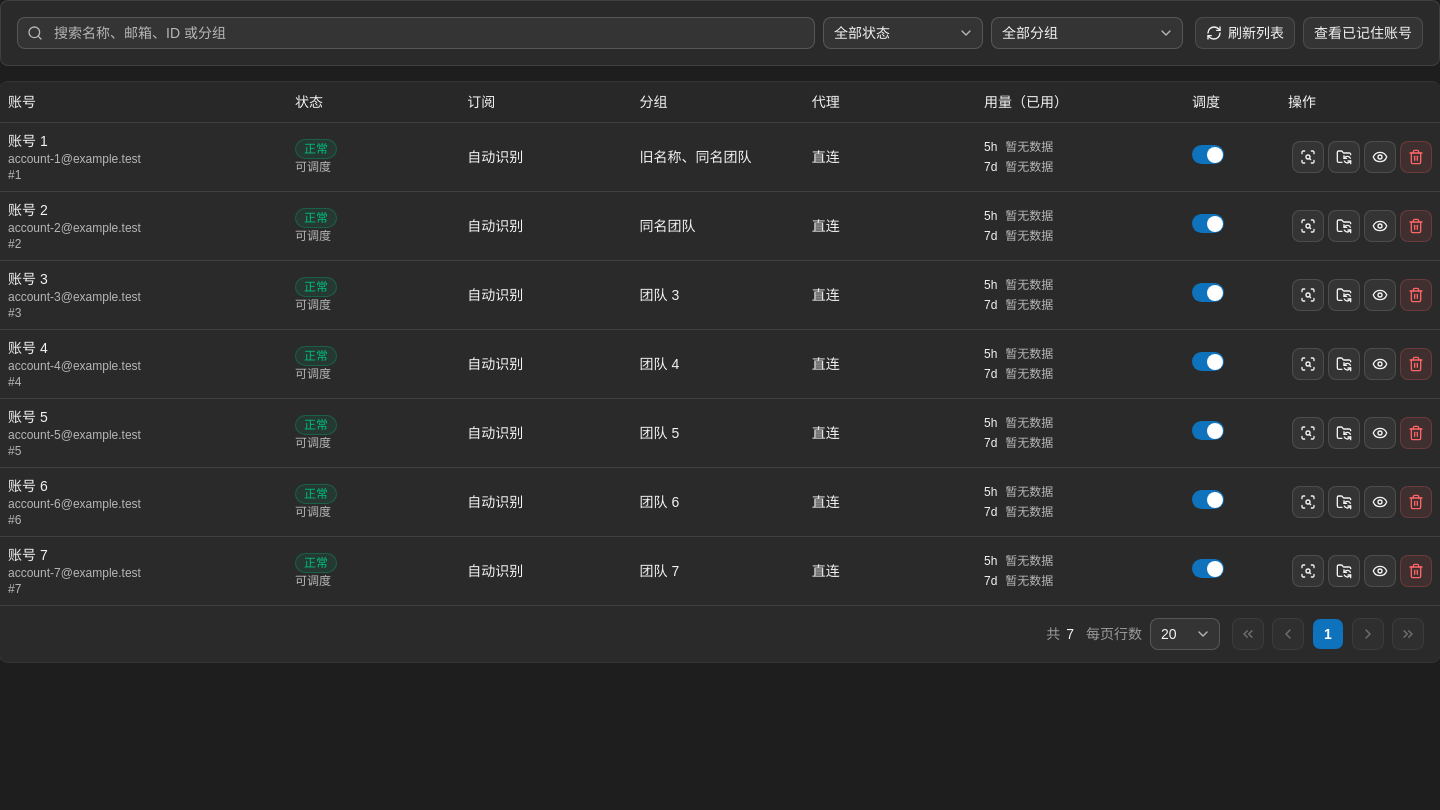
同名分组通过搜索ID精确选择，重复组保持首次顺序并采用最后名称
Click the dropdown named "筛选账号分组" at [1087, 33], box [991,17,1183,49]
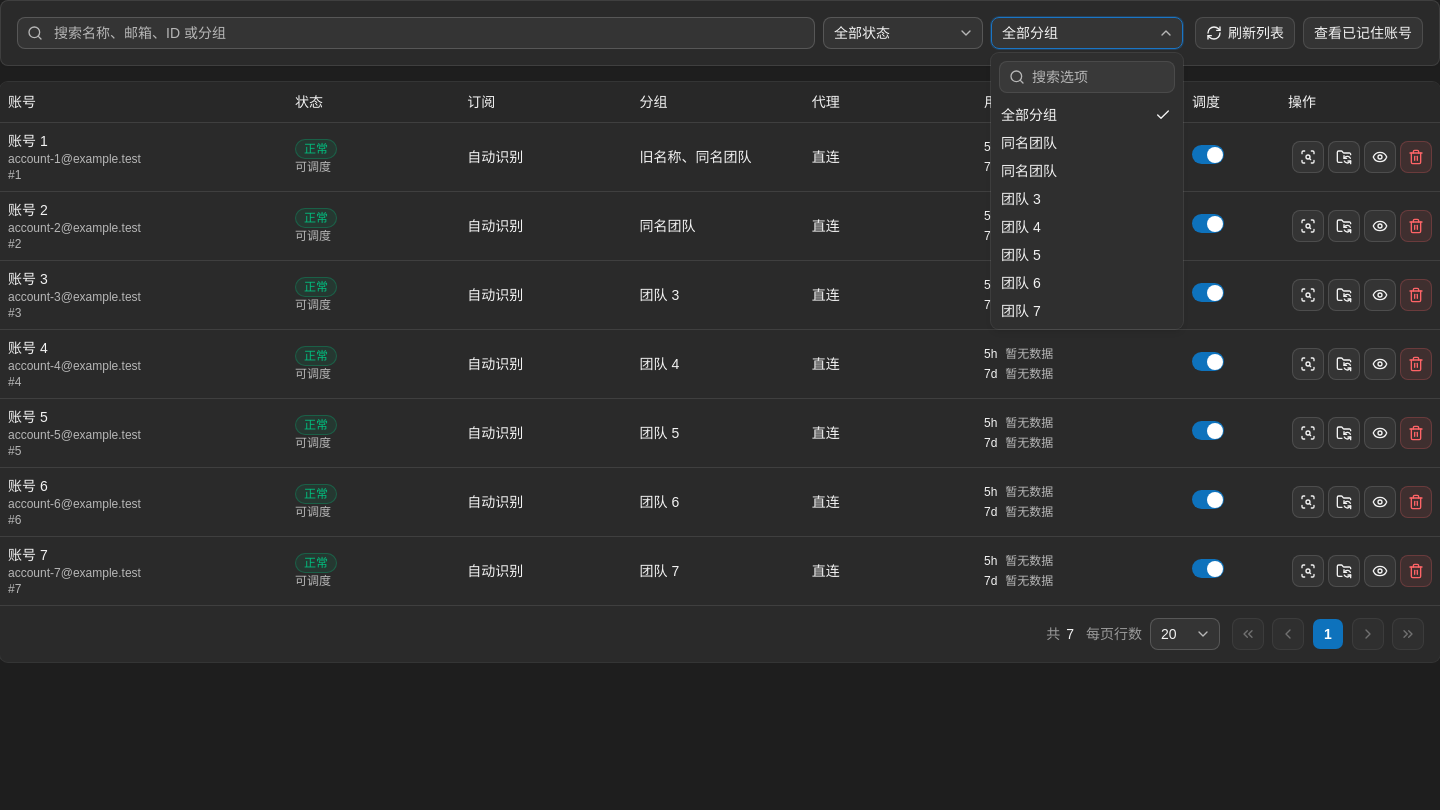
Type "1" into the field labelled "搜索选项" at [1087, 77], box [999,61,1175,93]
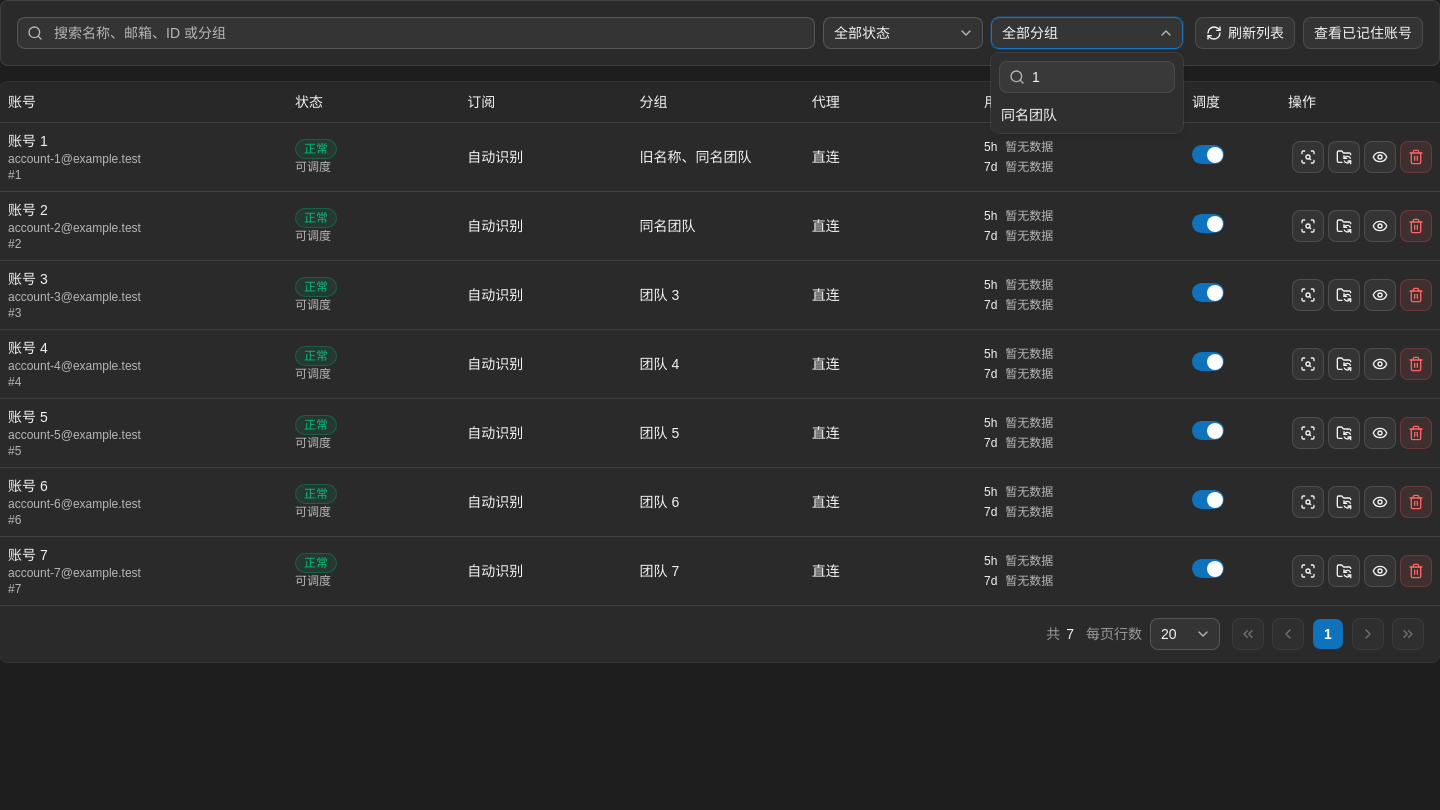
Click the option "同名团队" at [1029, 115], box [1001,107,1057,123]
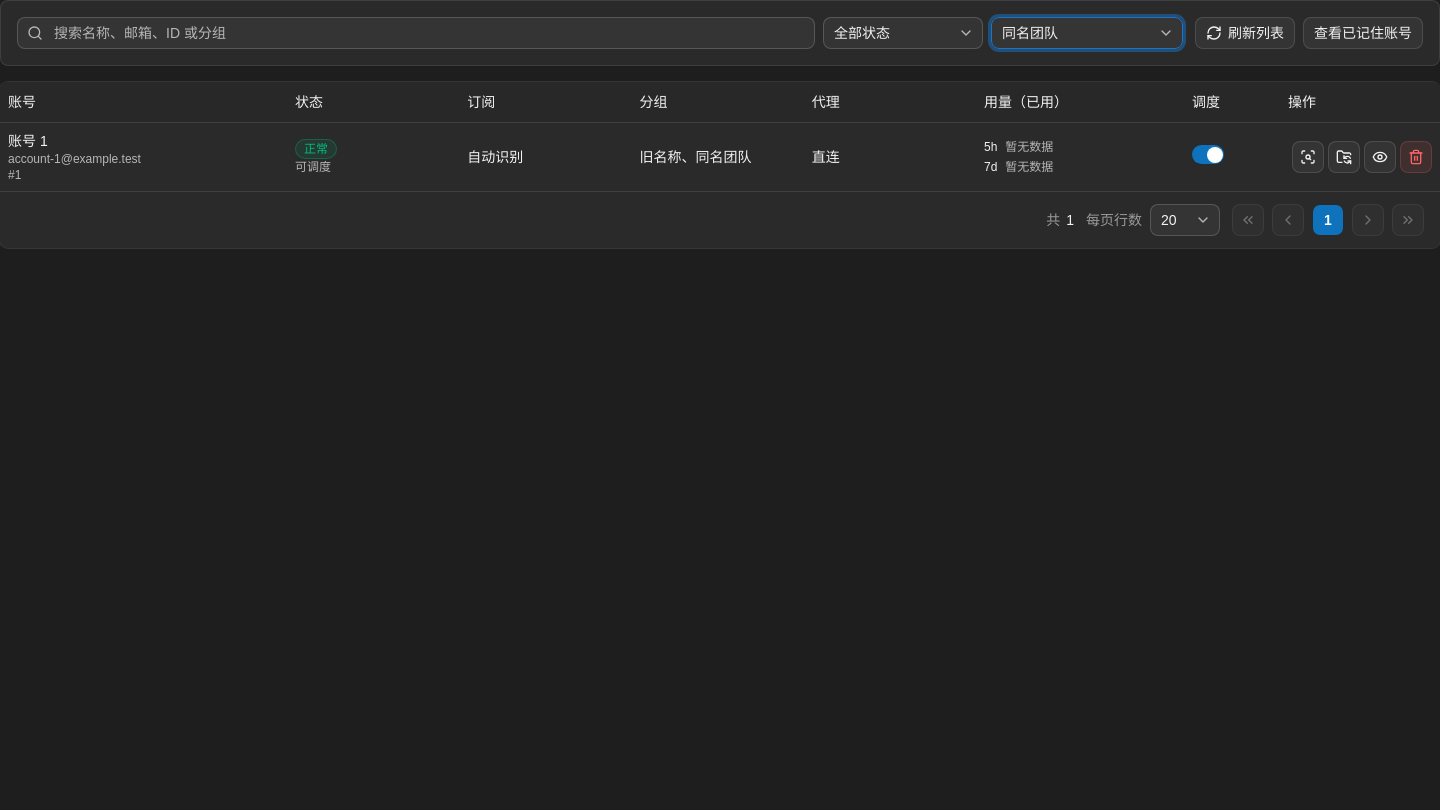
Check: the text "account-1@example.test" is shown, box [8,152,141,166]
Check: the text "account-2@example.test" is gone
